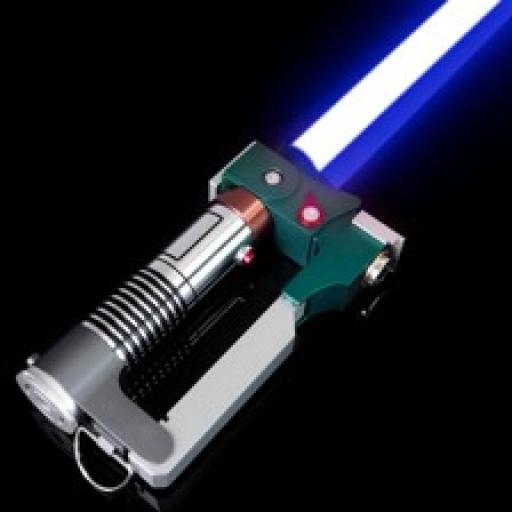lightsaber: (12, 0, 498, 487)
